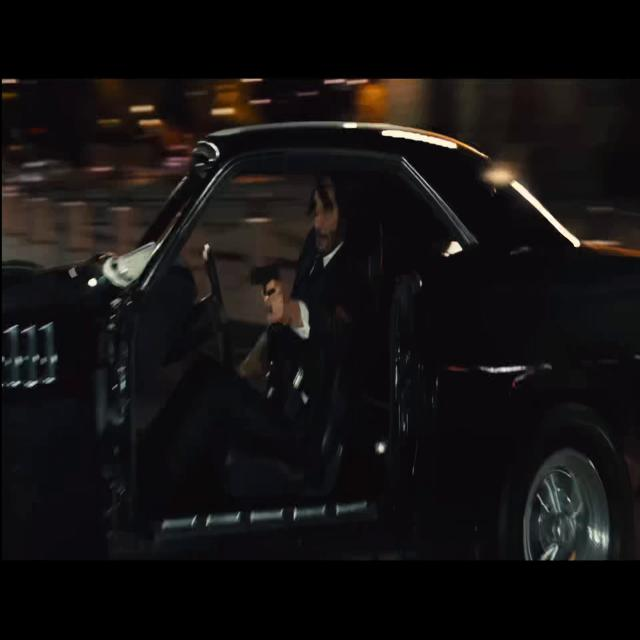weapons: (244, 249, 290, 332)
